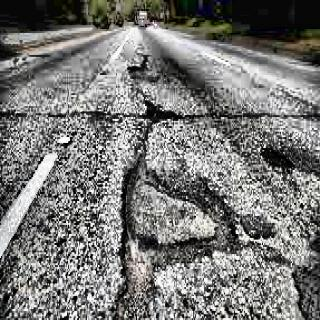crack: (0, 108, 320, 120)
pothole: (114, 148, 243, 320), (291, 256, 320, 320), (134, 94, 182, 127), (261, 145, 296, 175)
